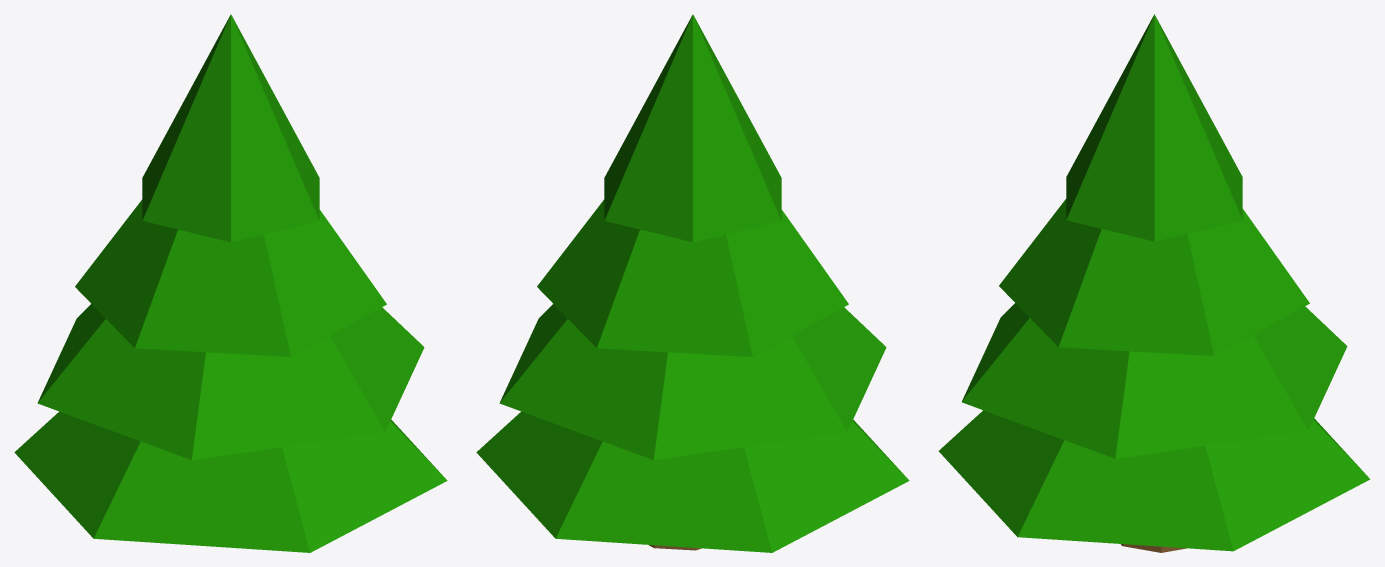
File: lowpolypine.fbx
The picture shows the model from 3 angles, left to right: view 1: azimuth 30°, elevation 25°; view 2: azimuth 150°, elevation 25°; view 3: azimuth 270°, elevation 25°; orthographic projection.
Visible parts, largest first — view 1: pCone4, pCone3, pCone2, pCone1; view 2: pCone4, pCone3, pCone2, pCone1; view 3: pCone4, pCone3, pCone2, pCone1.
Part boxes in pixels (bbox=[...]): pCone4: bbox=[14, 411, 447, 552]; pCone3: bbox=[37, 304, 424, 460]; pCone2: bbox=[75, 199, 386, 356]; pCone1: bbox=[142, 14, 319, 242]; pCone4: bbox=[476, 411, 909, 552]; pCone3: bbox=[499, 304, 886, 460]; pCone2: bbox=[537, 199, 848, 356]; pCone1: bbox=[604, 14, 781, 242]; pCone4: bbox=[939, 410, 1370, 551]; pCone3: bbox=[962, 303, 1347, 458]; pCone2: bbox=[999, 199, 1309, 355]; pCone1: bbox=[1066, 14, 1242, 241].
Size of the model in its own units: 11.9 by 16.49 by 12.61.
